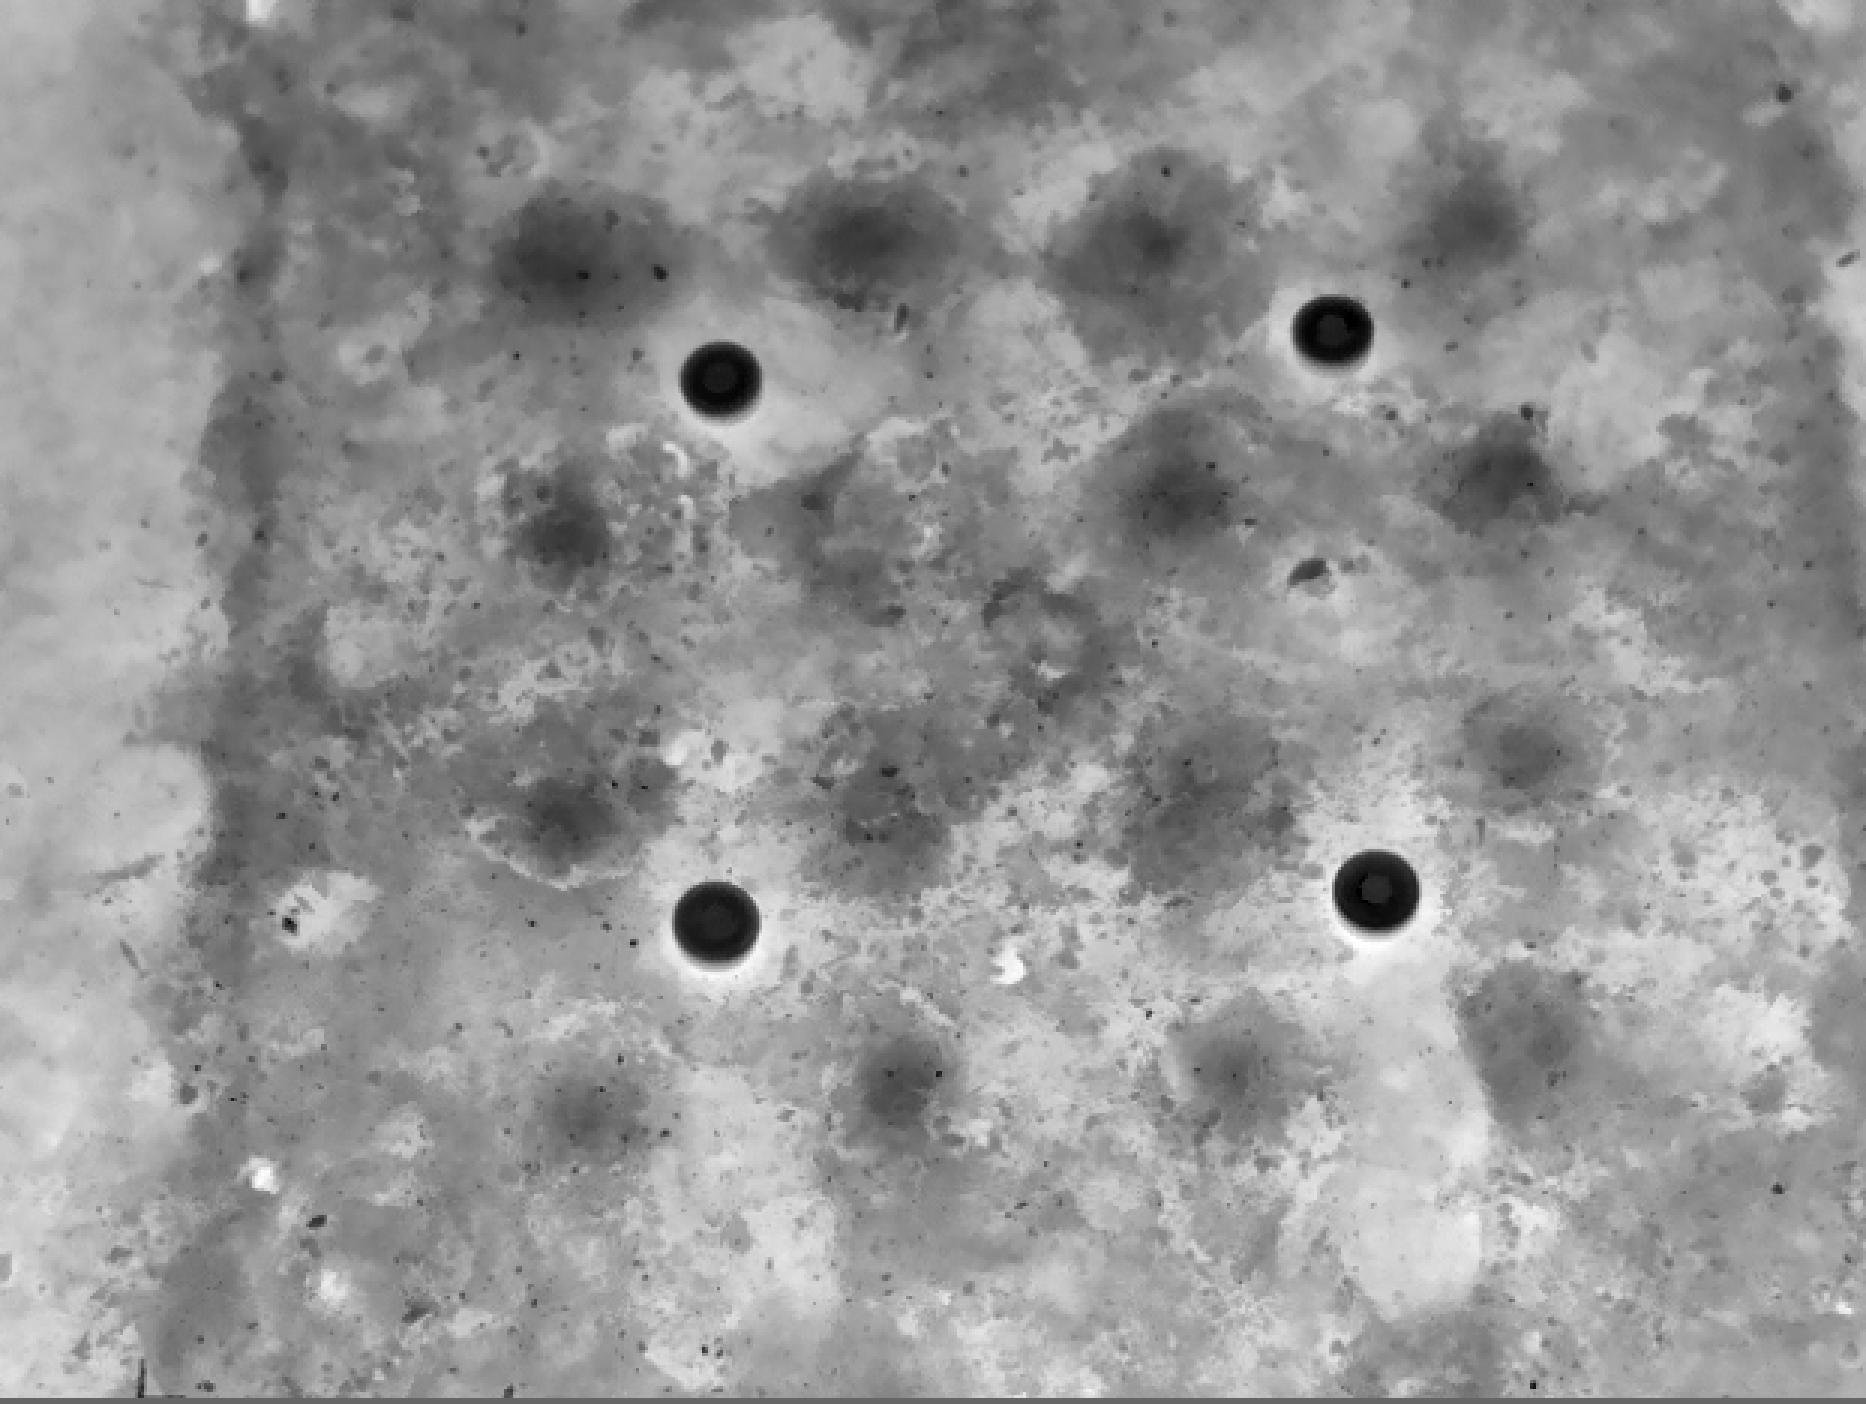mines-gjV8: (1328, 855, 1432, 957), (679, 877, 779, 965), (692, 324, 773, 423), (1292, 288, 1379, 369)
